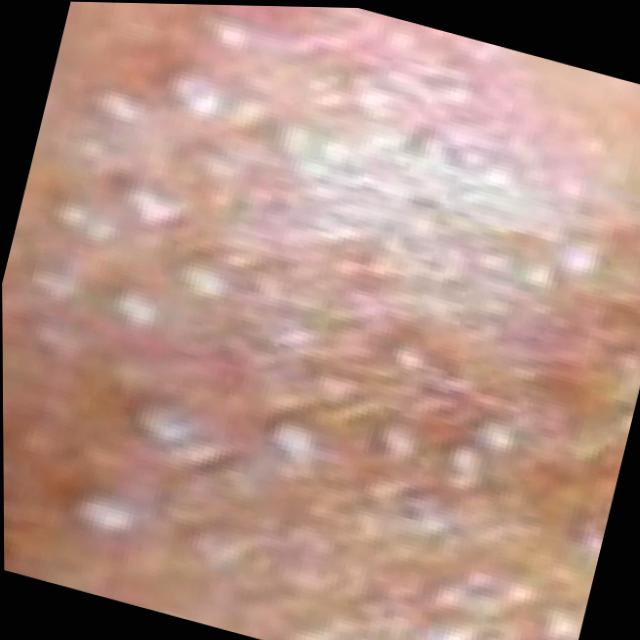whitehead: (2, 3, 640, 640)
